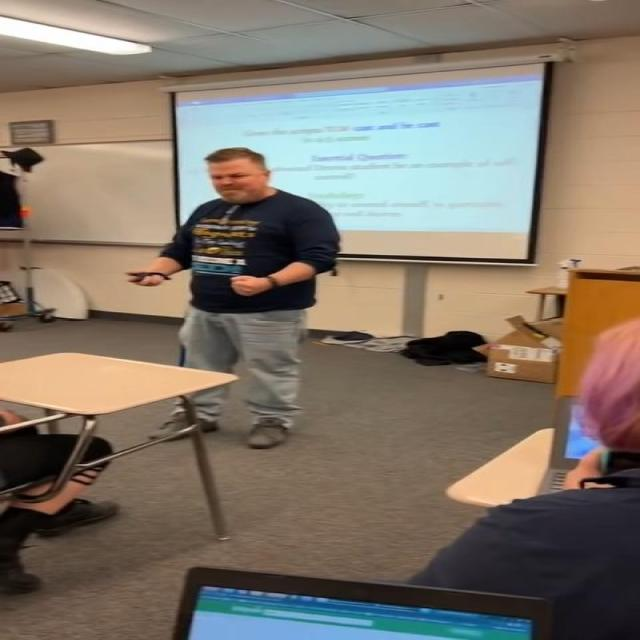NO-Mask: (209, 161, 265, 204)
